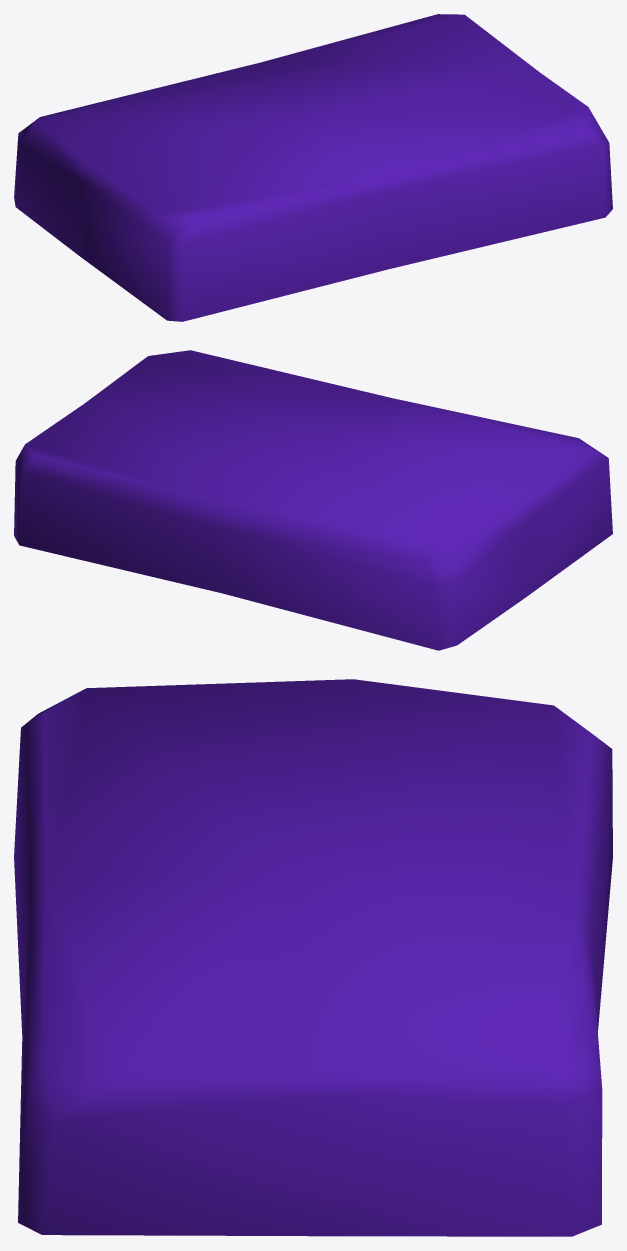
Rendered from flor_stone_05.FBX.
The picture shows the model from 3 angles, top to bottom: view 1: azimuth 30°, elevation 25°; view 2: azimuth 150°, elevation 25°; view 3: azimuth 270°, elevation 25°; orthographic projection. The views are drawn at different scales.
Parts seen in each view (by area): view 1: flor_stone_05; view 2: flor_stone_05; view 3: flor_stone_05.
Part boxes in pixels (left/top/right/bottom): flor_stone_05: left=14, top=14, right=612, bottom=321; flor_stone_05: left=14, top=350, right=612, bottom=650; flor_stone_05: left=14, top=679, right=612, bottom=1236.
Size of the model in its own units: 12.46 by 2.55 by 8.09.
